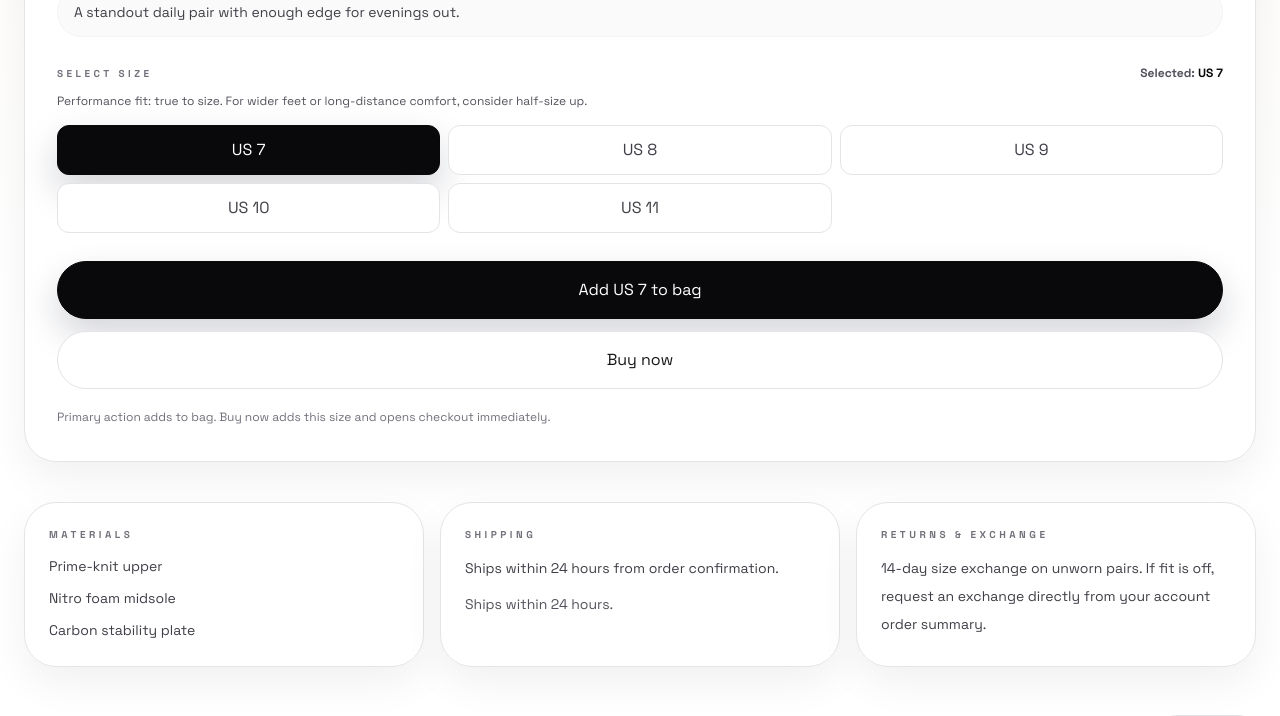
Commerce Journeys › supports buy-now product journey into checkout with the selected item in cart
(page scrolled)
Click the button "Buy now": (640, 360) [57, 331, 1223, 389]
(page scrolled)
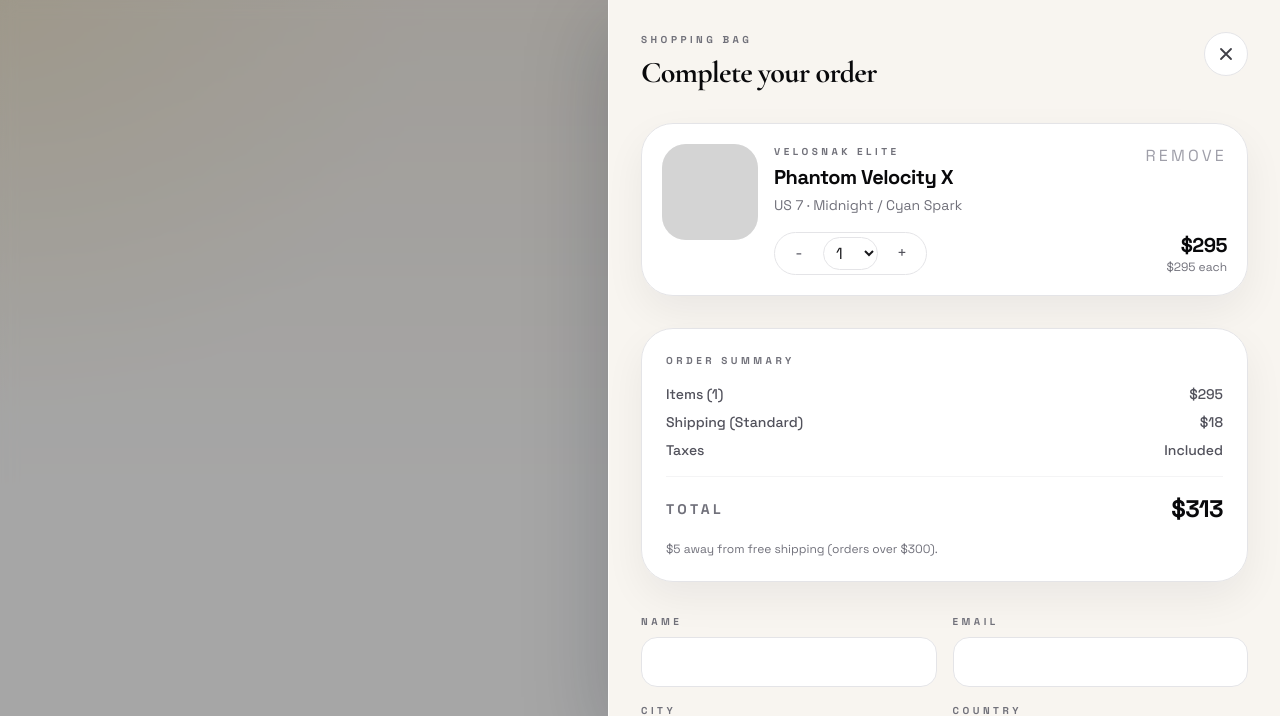
Check: the heading "Phantom Velocity X" is shown, box [774, 163, 962, 191]
Check: the heading "Complete your order" is shown, box [641, 55, 877, 91]
In the field labelled "Name": (789, 662) [641, 637, 936, 687], type "Journey Tester"
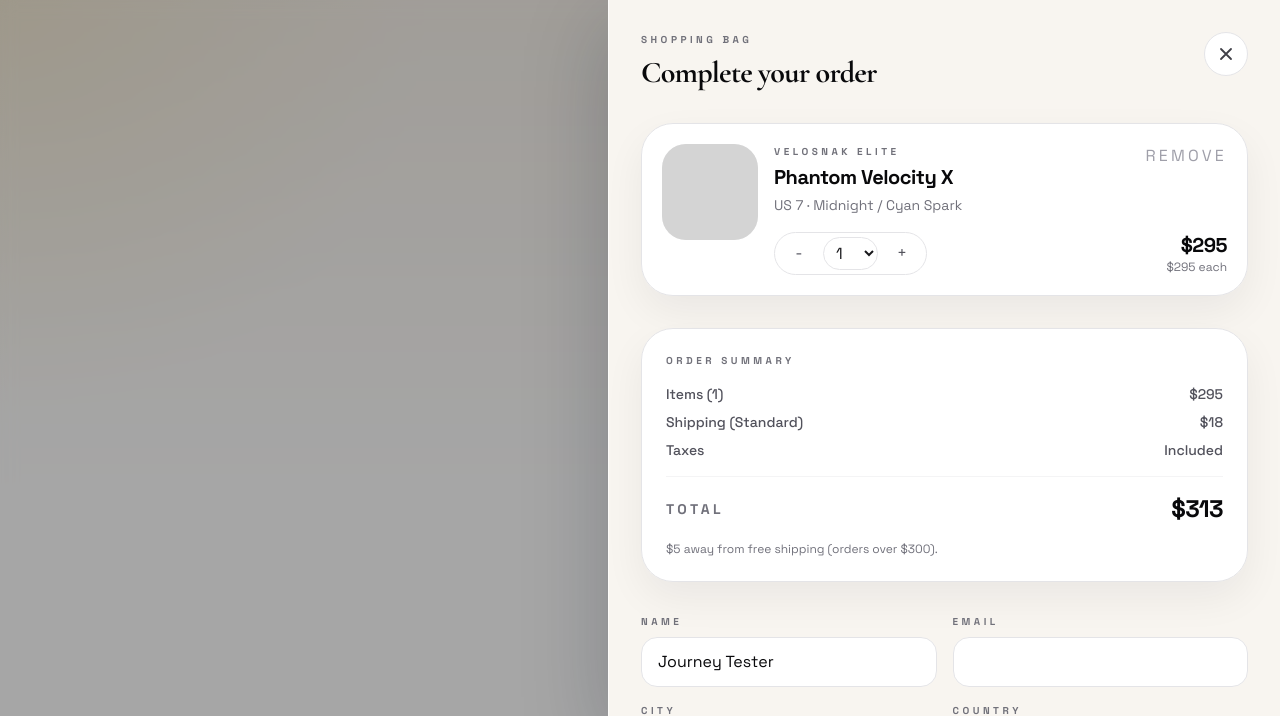
In the field labelled "Email": (1100, 662) [952, 637, 1248, 687], type "journey@example.com"
(page scrolled)
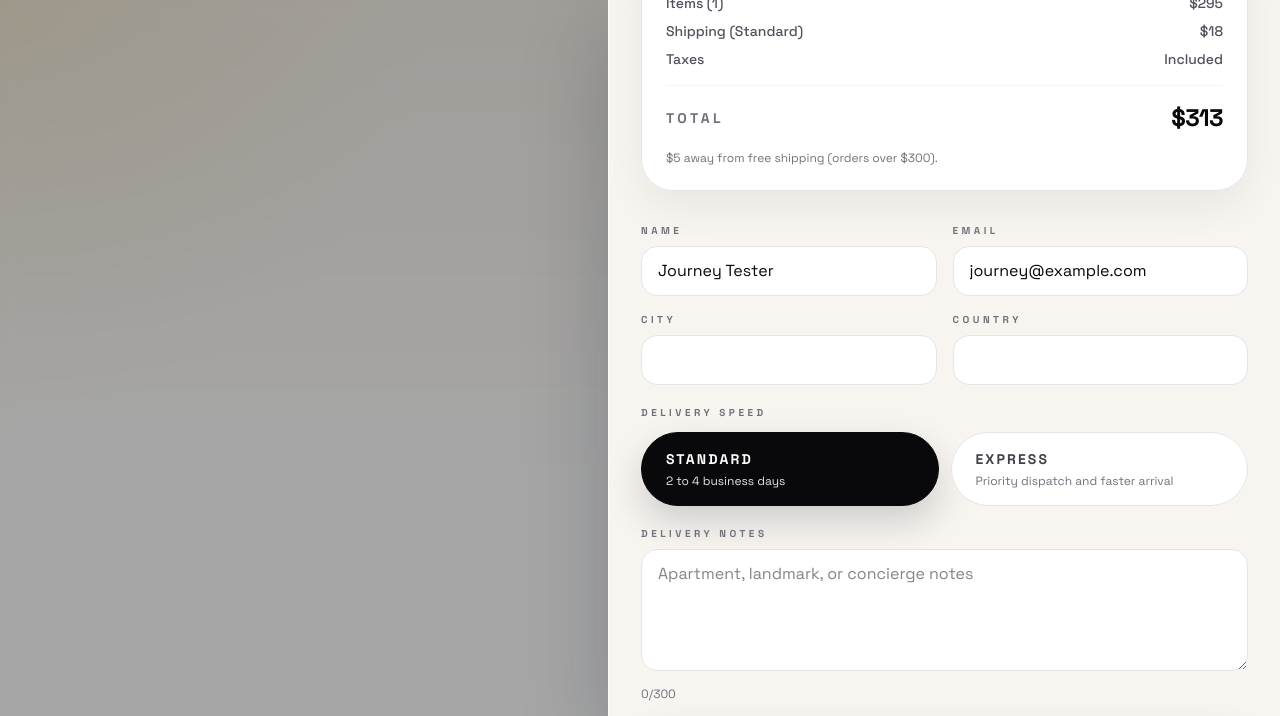
In the field labelled "City": (789, 360) [641, 335, 936, 385], type "Dhaka"
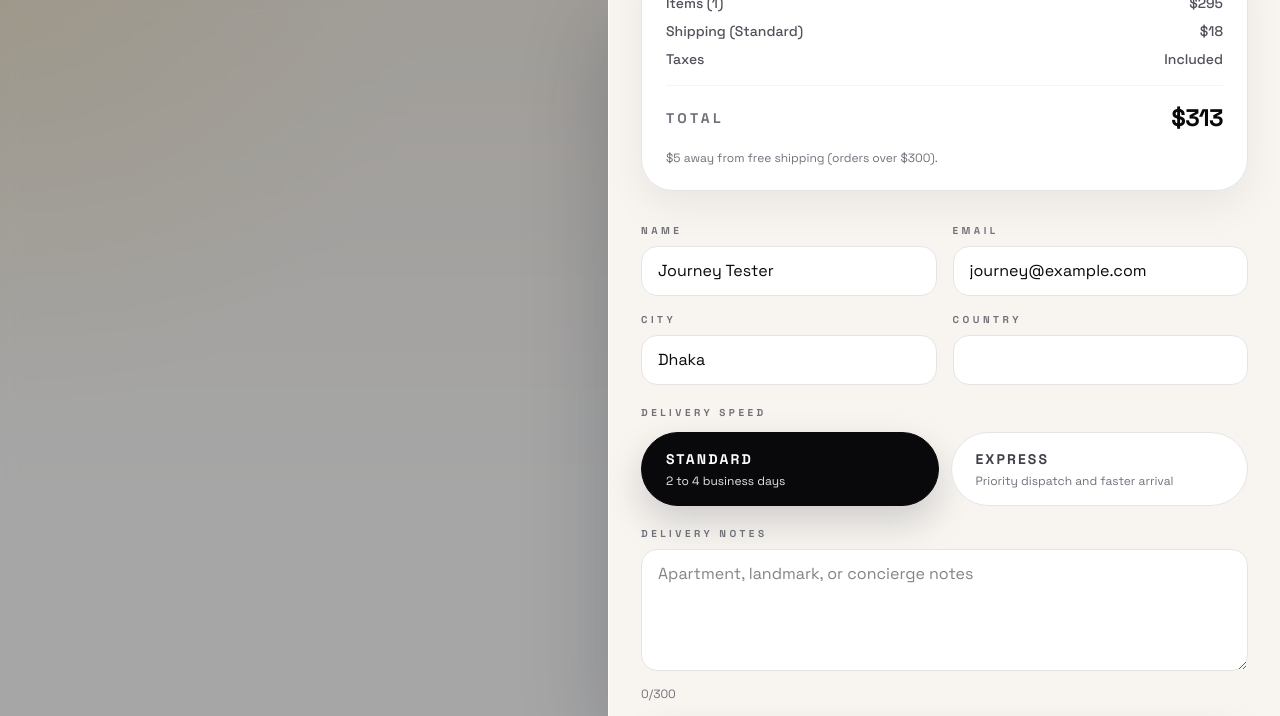
In the field labelled "Country": (1100, 360) [952, 335, 1248, 385], type "Bangladesh"
(page scrolled)
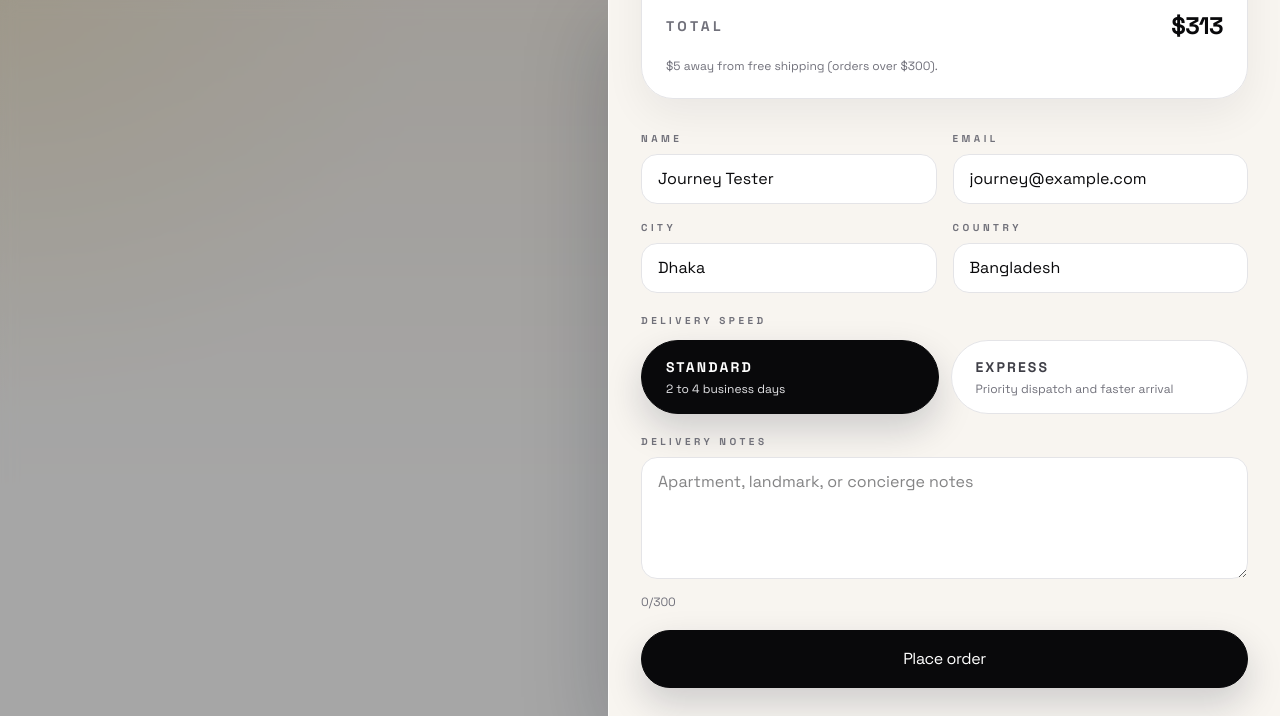
Click the button "Place order": (944, 659) [641, 630, 1248, 688]
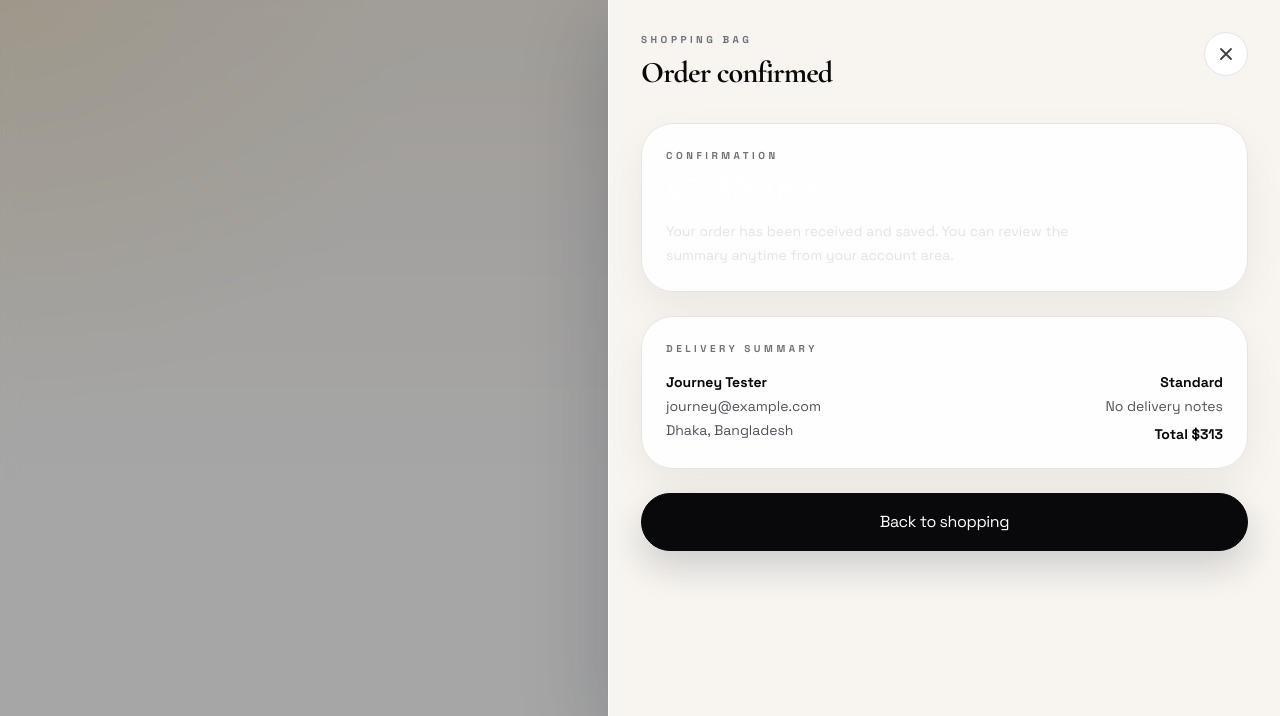
Check: the heading "Order confirmed" is shown, box [641, 55, 832, 91]
Check: the text "journey@example.com" is shown, box [666, 397, 821, 415]
